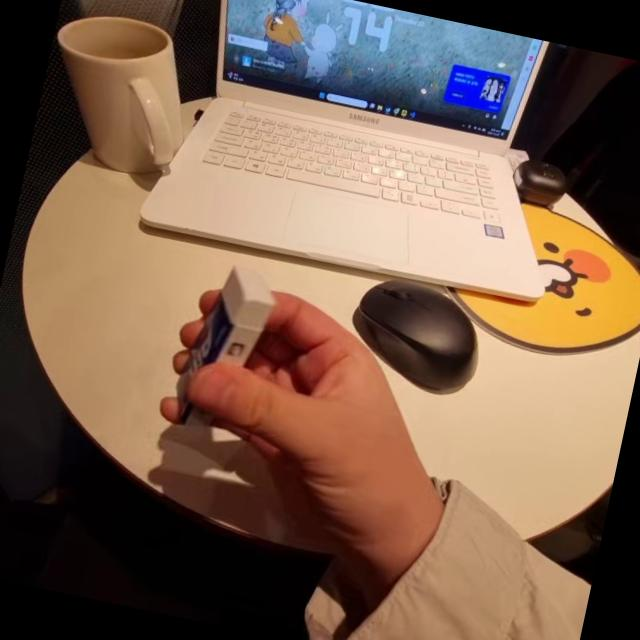eraser: (168, 265, 292, 451)
grab_eraser: (120, 262, 468, 628)
mouse: (349, 274, 498, 409)
